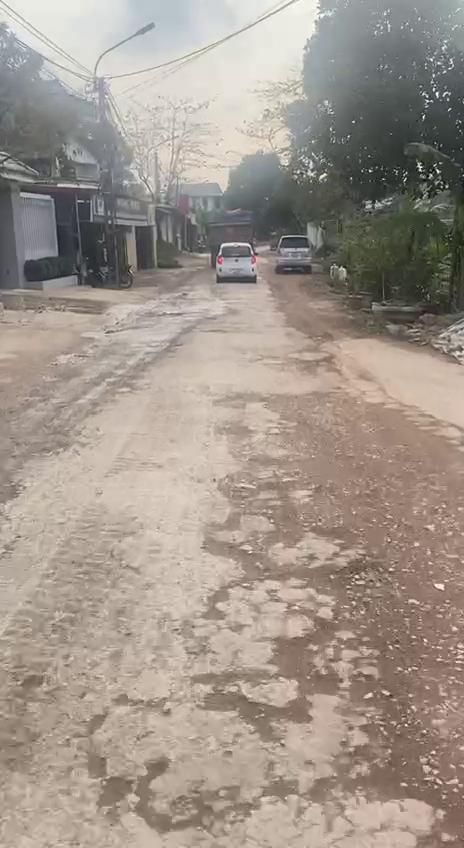pothole: (293, 713, 464, 848), (190, 619, 346, 737), (190, 529, 365, 610), (81, 752, 218, 837)
